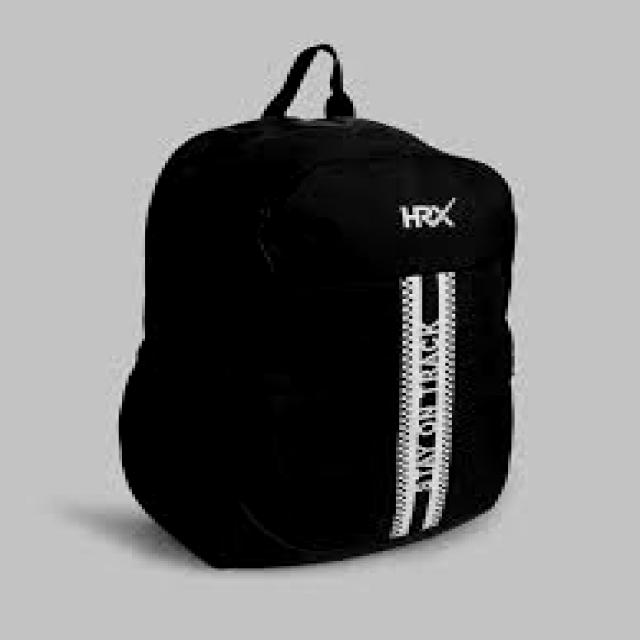backpack: (117, 43, 519, 569)
